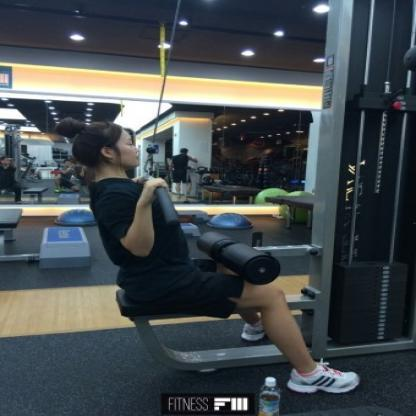Lat Pull Down: (59, 0, 416, 416)
